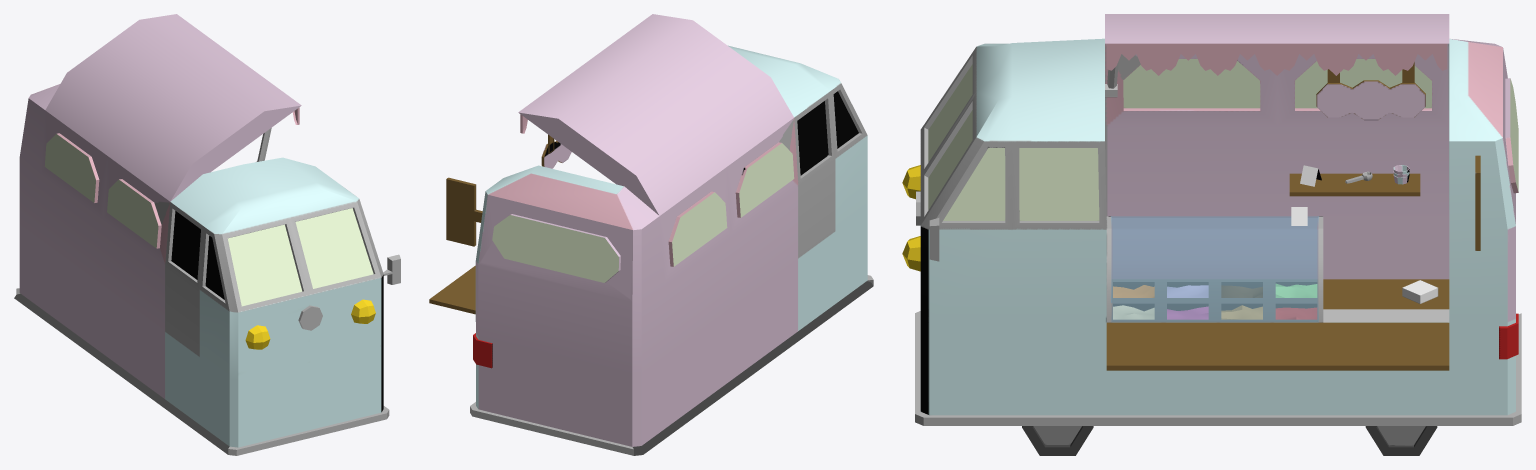
File: 3lvl_ice.glb
3 renders of one model, left to right at view 1: azimuth 30°, elevation 25°; view 2: azimuth 150°, elevation 25°; view 3: azimuth 270°, elevation 25°, orthographic. The views are drawn at different scales.
Parts seen in each view (by area): view 1: lvl3_ice_cream; view 2: lvl3_ice_cream; view 3: lvl3_ice_cream.
Boxes of the visible parts, <box> form: lvl3_ice_cream: <box>14,14,400,455</box>; lvl3_ice_cream: <box>429,14,873,455</box>; lvl3_ice_cream: <box>902,14,1521,455</box>.
Bounding box in the file's own units: 1.21 × 1.54 × 2.12.
2 materials, 2 textured.
